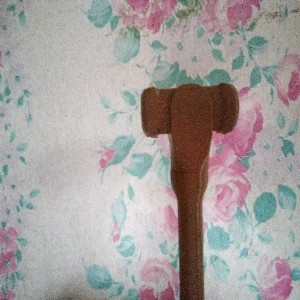palu: (140, 80, 240, 300)
